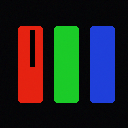4 line_v: (30, 30, 34, 66)
